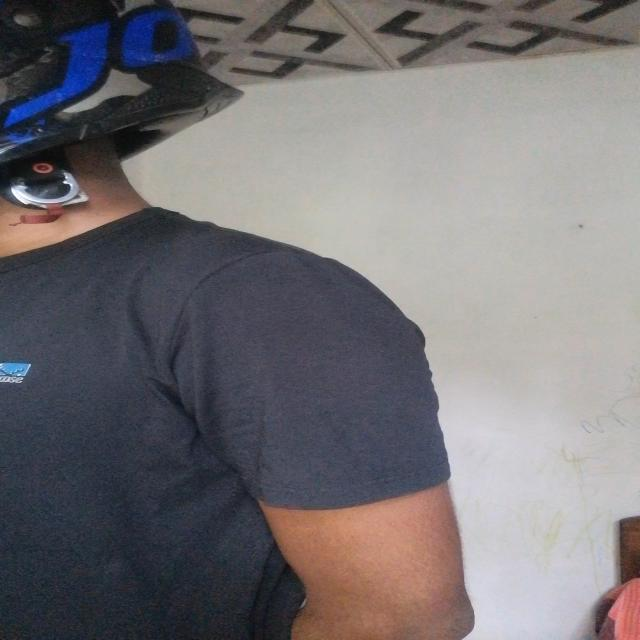Helmet_Wearer: (6, 4, 251, 290)
